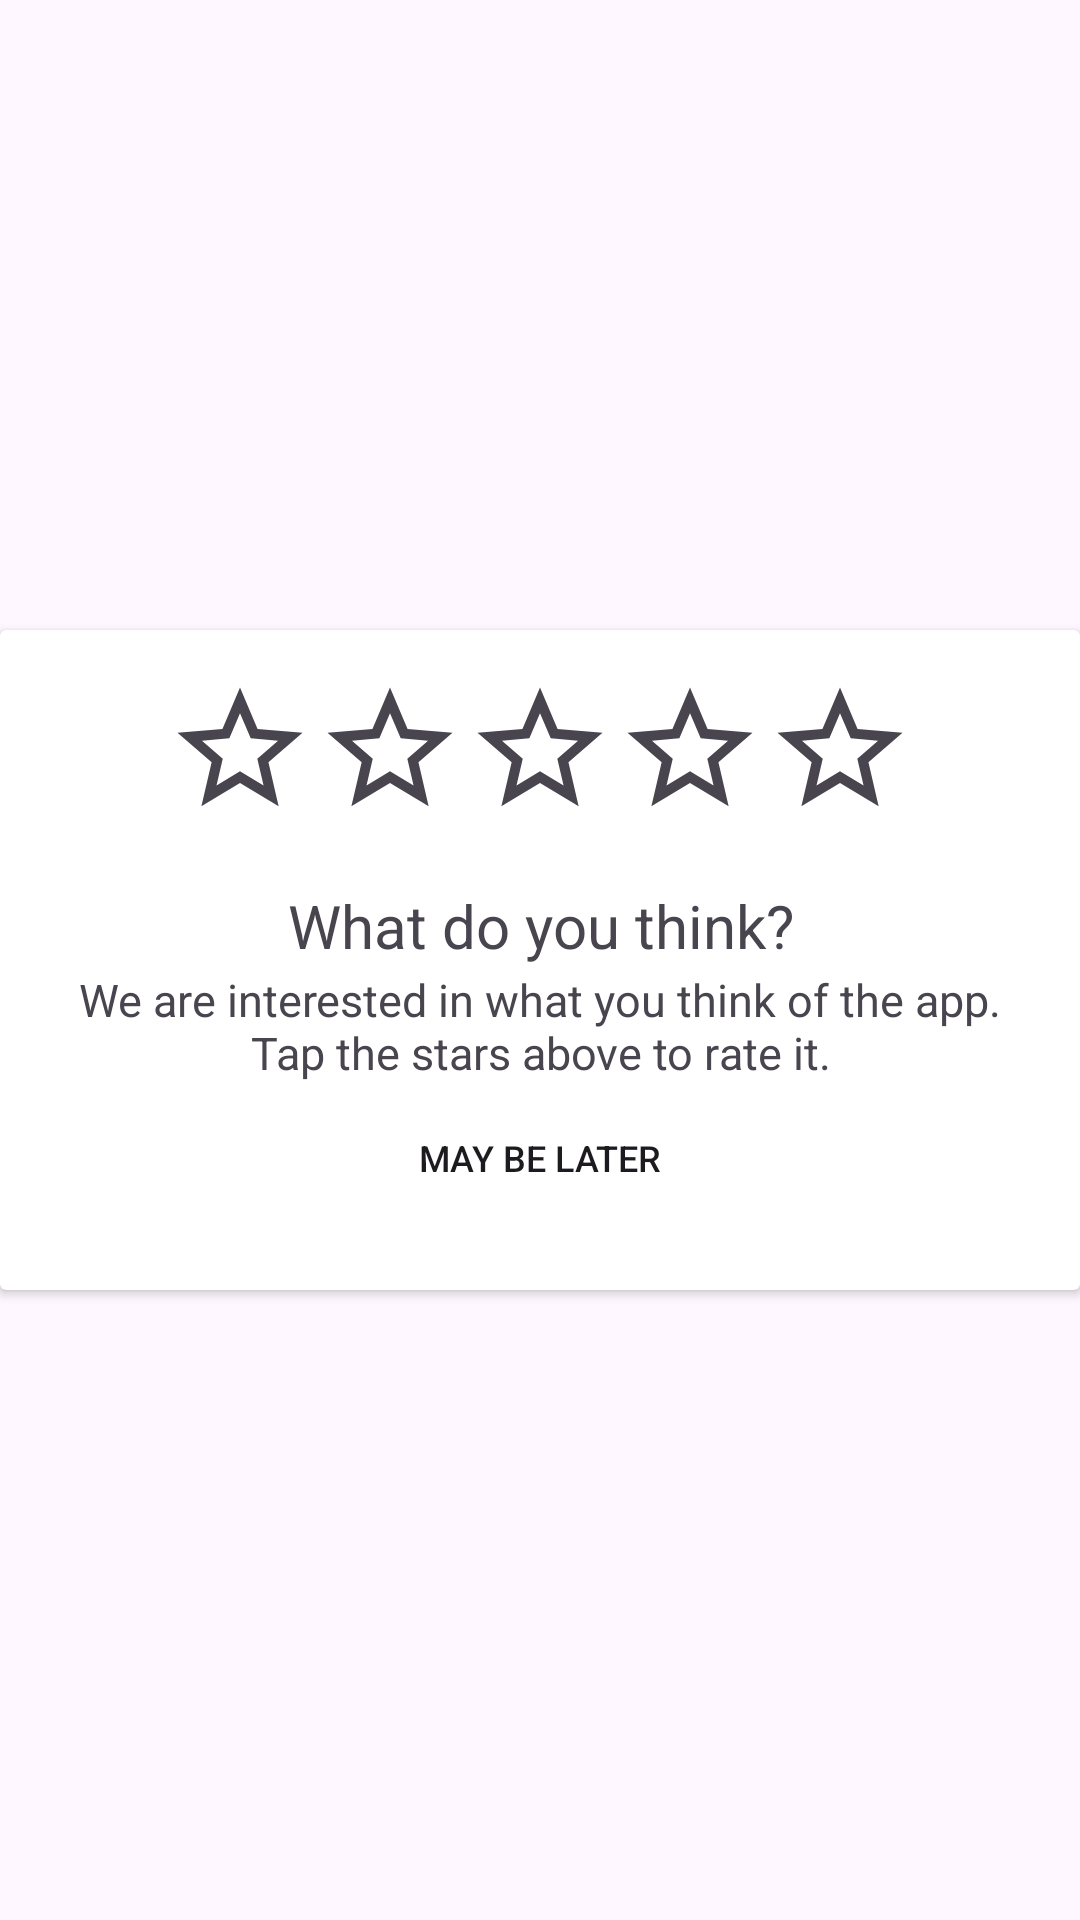

Icons on this 1080 × 1920 Android screen, each with the point to tap as (x,y):
star border: (240,747), (390,747), (540,747), (690,747), (840,747)
